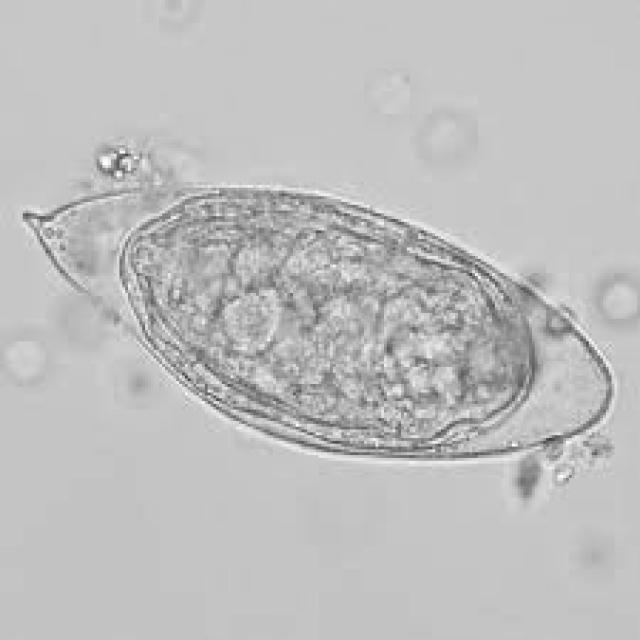Schistosoma: (14, 186, 623, 476)
